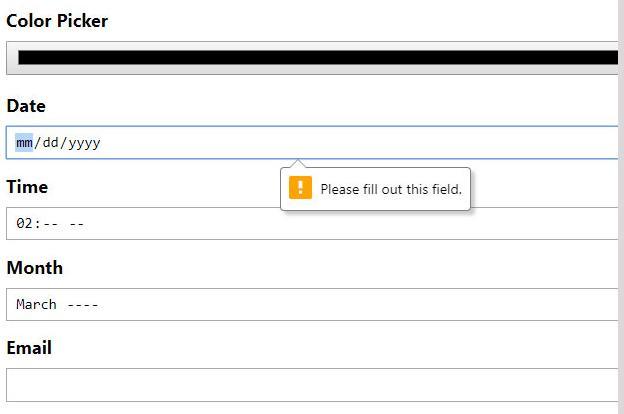field: (3, 364, 620, 405), (4, 204, 619, 243), (3, 284, 620, 322), (5, 125, 619, 162)
field_with_label: (0, 339, 624, 407), (3, 179, 621, 245), (3, 98, 621, 162)
